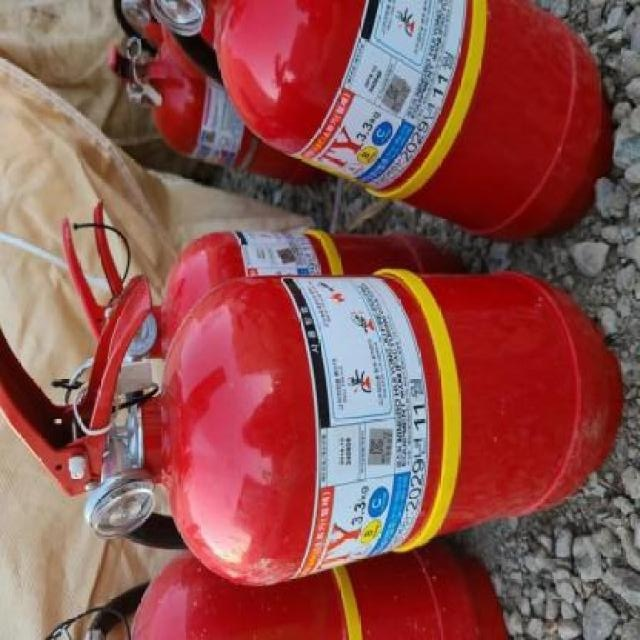fire extinguisher: (0, 268, 623, 586), (149, 0, 614, 245), (61, 202, 452, 362), (43, 551, 512, 640), (109, 35, 328, 189)
